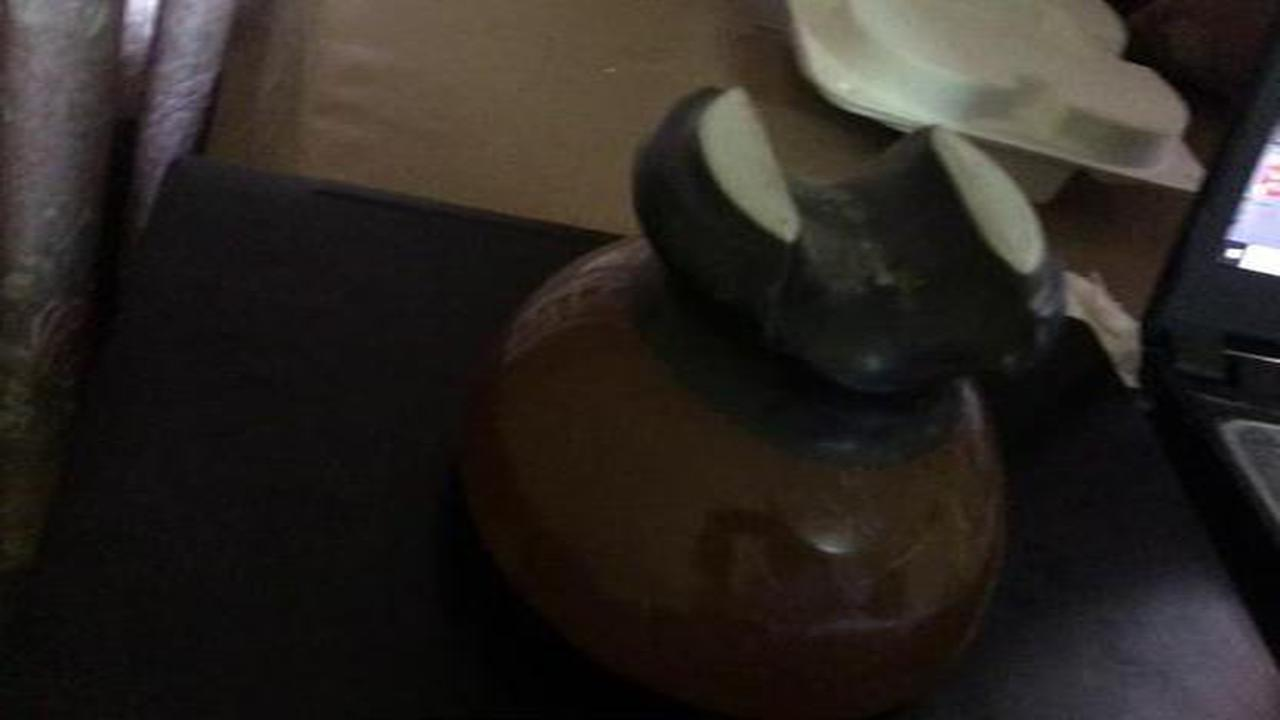insulator_pin: (437, 66, 1081, 696)
